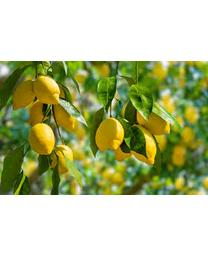lemon: (96, 117, 123, 151), (30, 123, 57, 156), (34, 73, 60, 104), (133, 133, 156, 164), (12, 77, 32, 111), (54, 101, 78, 129), (143, 109, 169, 134)
